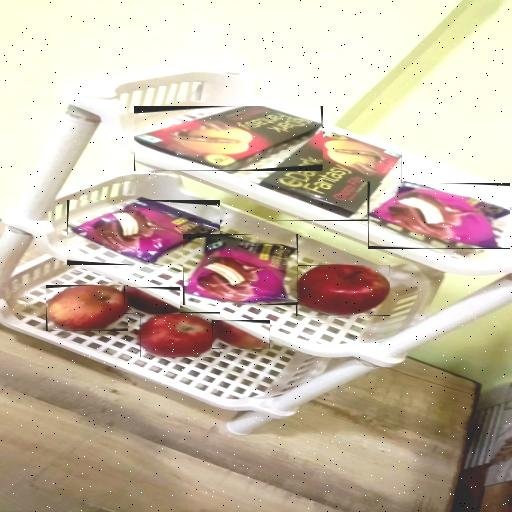Apple: (296, 266, 390, 318), (46, 285, 128, 331), (140, 312, 220, 357), (212, 320, 270, 349), (124, 287, 180, 314)
Choco Fills: (260, 135, 402, 221), (135, 106, 322, 170)
Choco Pie: (67, 200, 220, 265), (368, 183, 510, 249), (183, 234, 298, 305)
